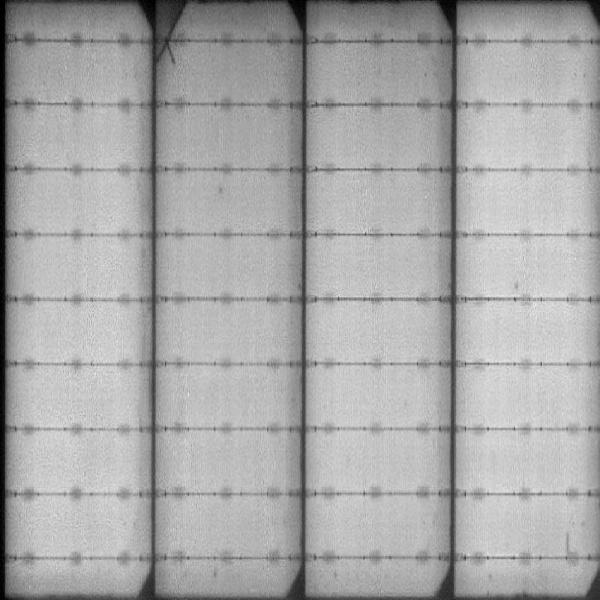broken: (157, 2, 194, 67)
